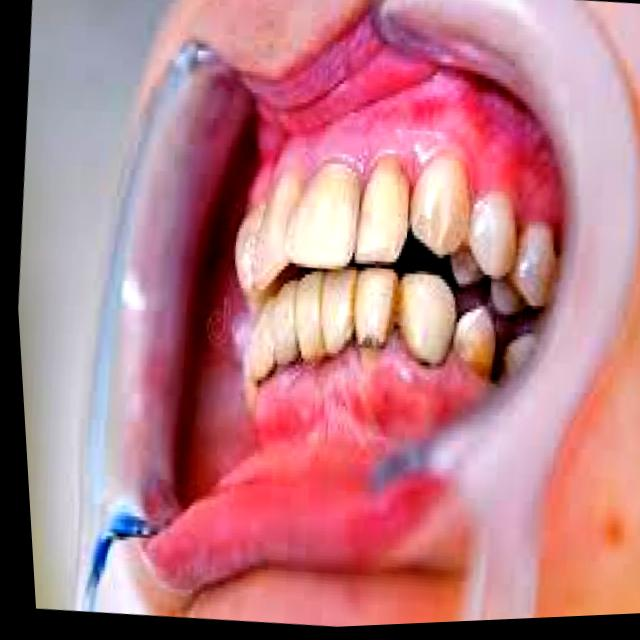tooth-discoloration: (469, 190, 514, 275), (510, 221, 555, 305), (353, 267, 395, 342), (320, 266, 354, 352), (262, 280, 297, 363), (293, 271, 322, 355)
